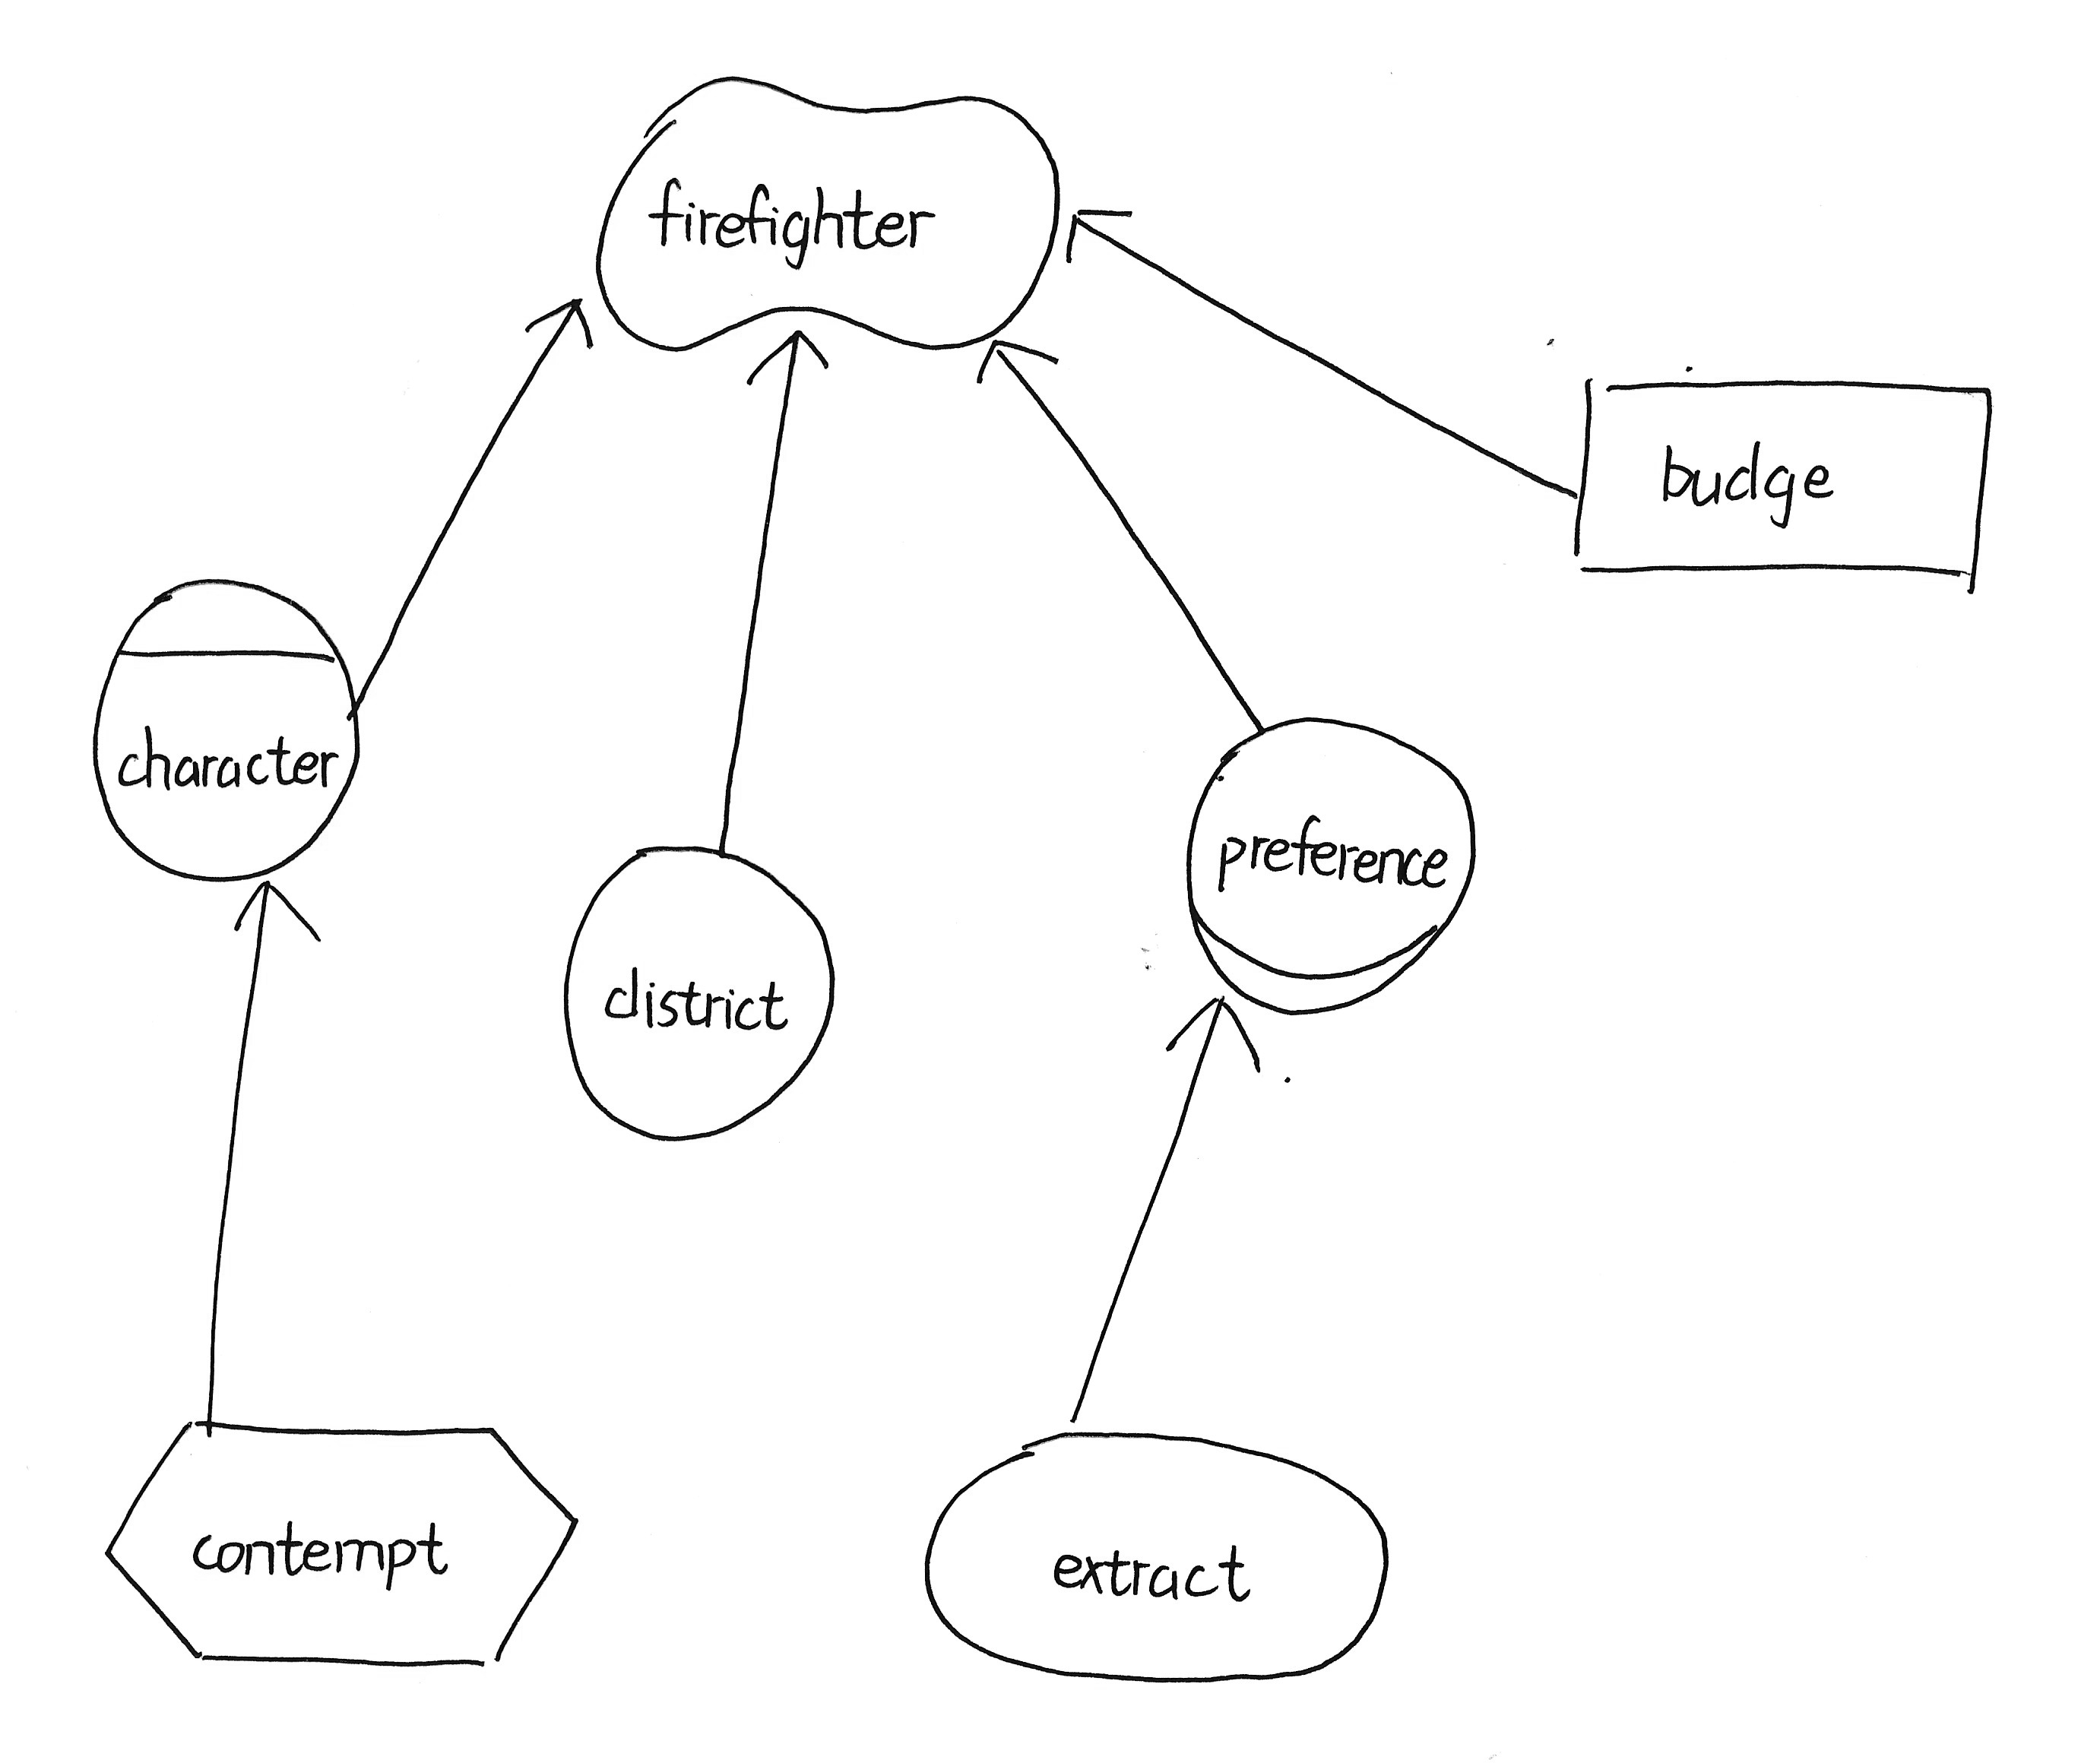actor: (546, 829, 848, 1156)
agent: (72, 556, 385, 906)
arrow: (1149, 993, 1271, 1086), (224, 868, 334, 958), (504, 285, 607, 374), (736, 317, 841, 401), (967, 325, 1074, 399), (1056, 198, 1149, 282)
goal: (907, 1411, 1411, 1695)
quality: (582, 49, 1075, 369)
resource: (1558, 357, 2020, 614)
role: (1172, 703, 1492, 1032)
task: (86, 1399, 593, 1695)
